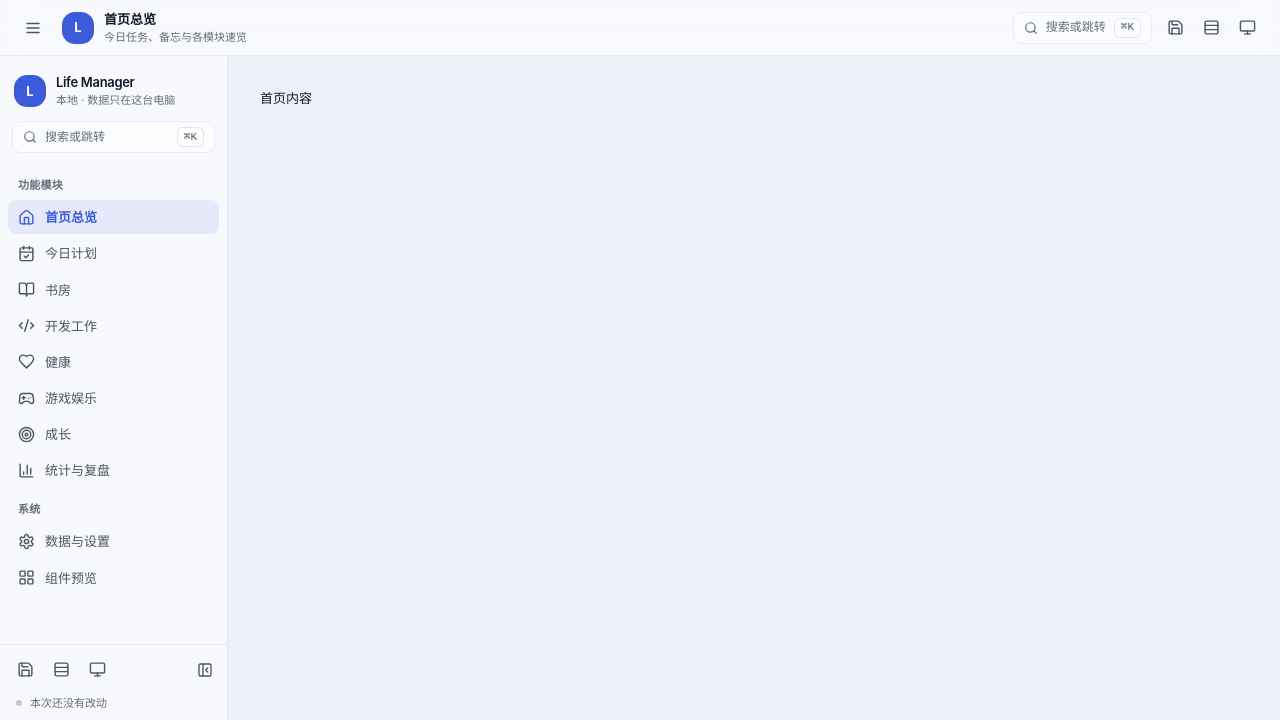
Test: Layout › ⌘K 打开命令面板，回车执行选中的跳转
The image size is (1280, 720).
Step 1. Press k
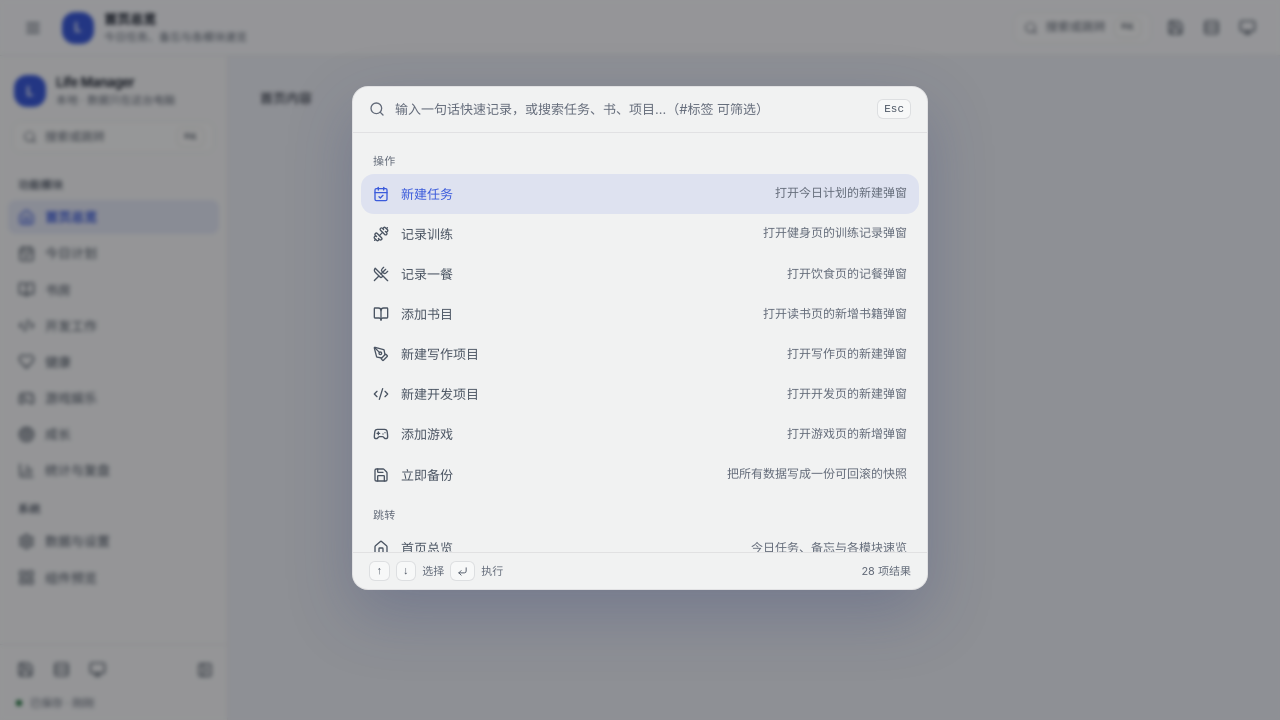
Now the dialog named "命令面板" is shown, box 352,86 -> 928,590
Step 2. Type "任务" into the dropdown → (631,109), box 395,99 -> 867,120
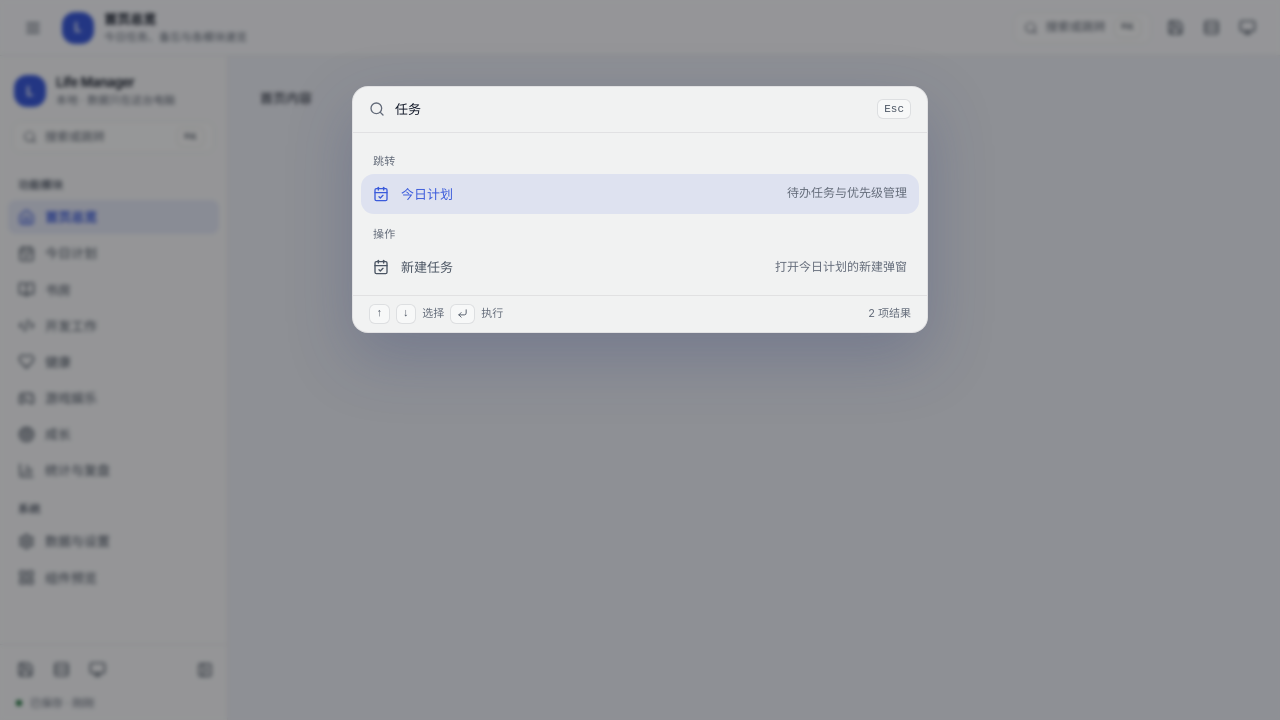
过滤后第一项就是「今日计划」
Step 3. Press Enter
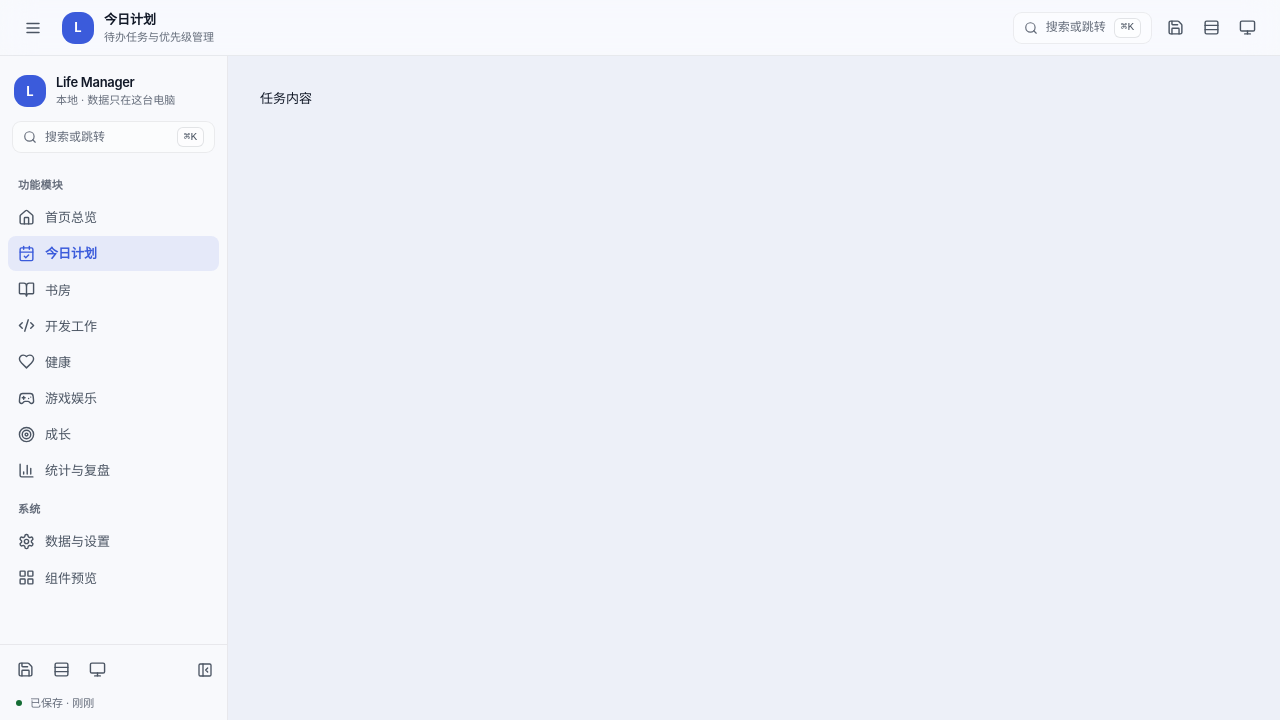
Now the dialog "命令面板" is gone
Now the text "任务内容" is shown, box 260,90 -> 312,106
